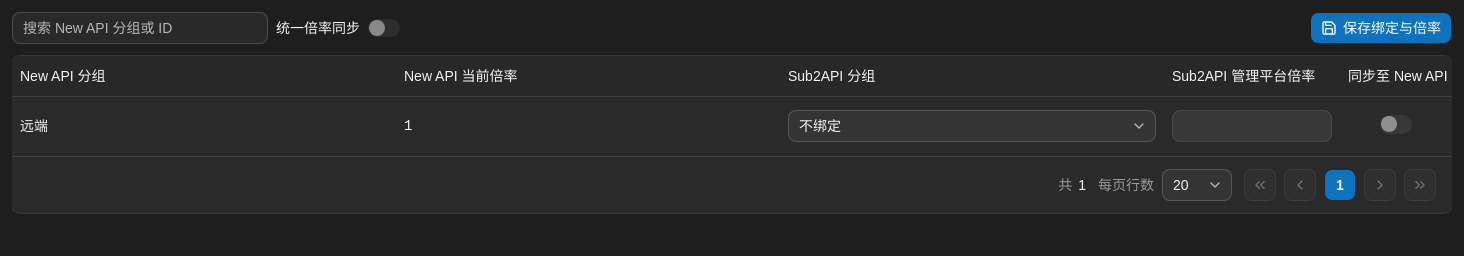
Scenario: 本地分组字典逆序时绑定选择遵循配置且不绑定固定首位
This screenshot has width=1464, height=256.
Step 1. Click the dropdown named "远端 的 Sub2API 分组" → point(820, 126), box [788,110,1156,142]
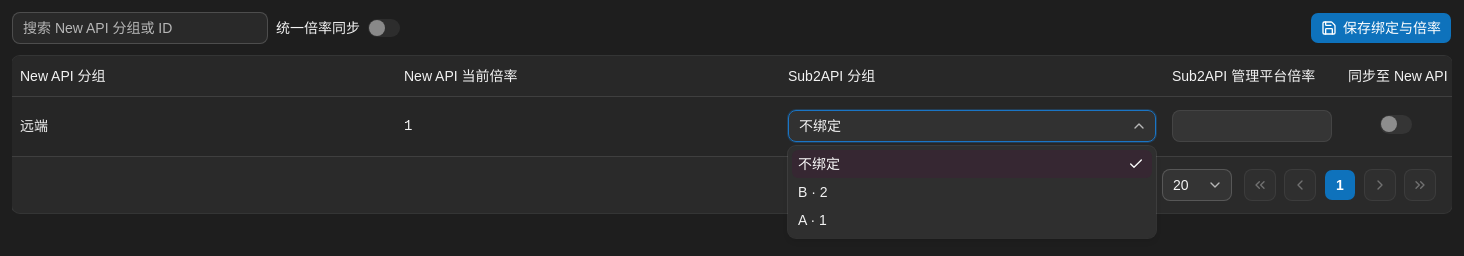
Expected: the options read "不绑定", "B · 2", "A · 1", in this order, [792,150,1152,178]; [798,184,828,200]; [798,212,827,228]
